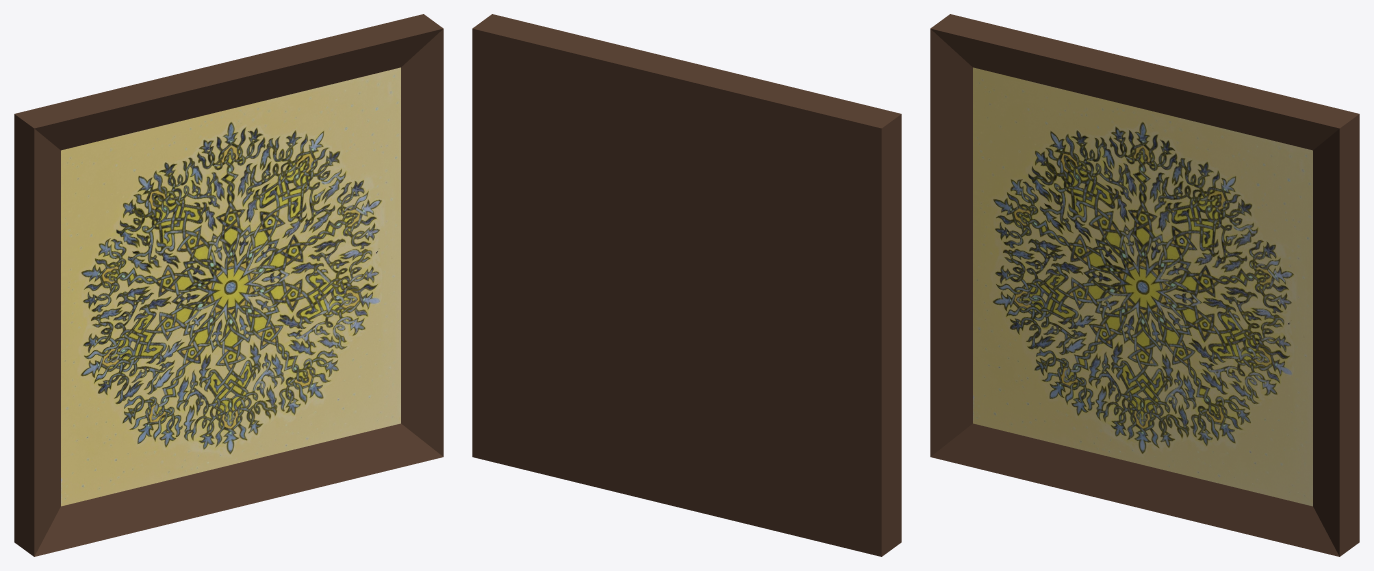
The model's file is slipper-orchids-orchids30-manipura-yellow-a3-walnut-tray-v2.glb.
3 renders of one model, left to right at view 1: azimuth 30°, elevation 25°; view 2: azimuth 150°, elevation 25°; view 3: azimuth 330°, elevation 25°, orthographic.
Visible parts, largest first — view 1: FramedPrint; view 2: FramedPrint; view 3: FramedPrint.
Part boxes in pixels (bbox=[...]): FramedPrint: bbox=[14, 14, 443, 556]; FramedPrint: bbox=[472, 14, 901, 556]; FramedPrint: bbox=[930, 14, 1359, 556].
Size of the model in its own units: 0.355 by 0.355 by 0.03.
Materials: 2 (1 with a texture image).
